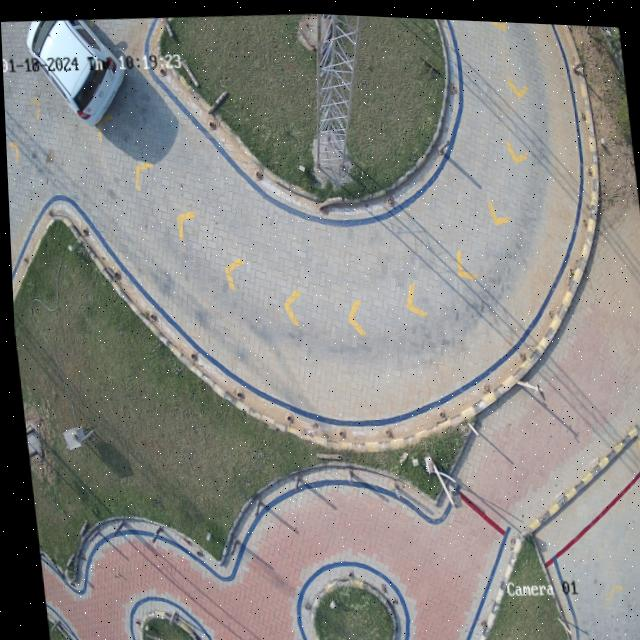car: (26, 19, 122, 125)
